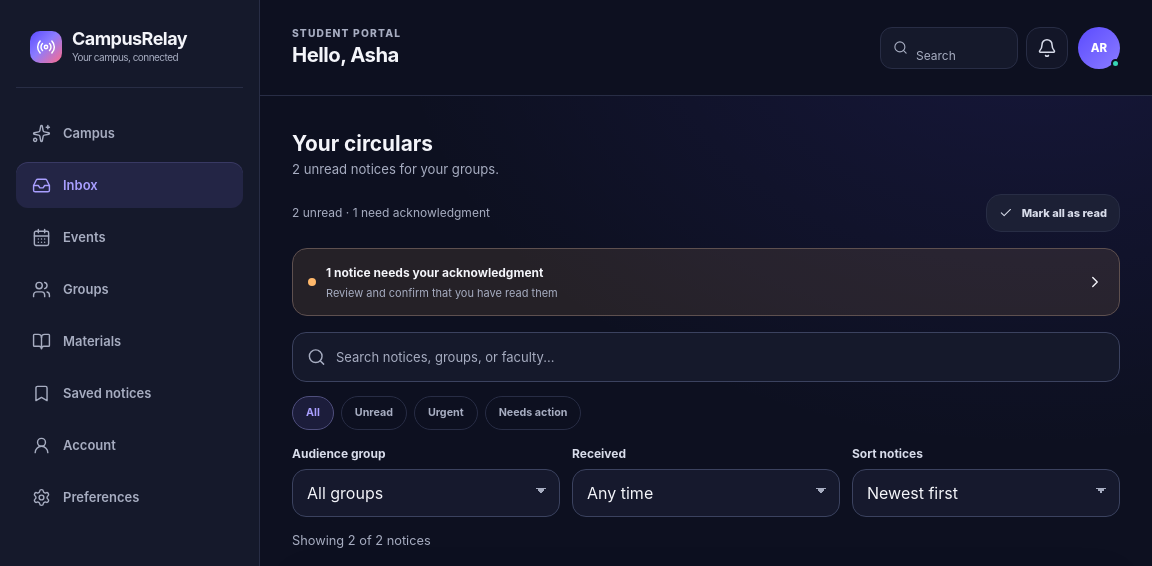
Test: StudentPortal Tier 2 controls › marks all notices read while preserving required acknowledgments and pending feedback
Click the button "Mark all as read". click: [1053, 213]
box: [986,194,1120,232]
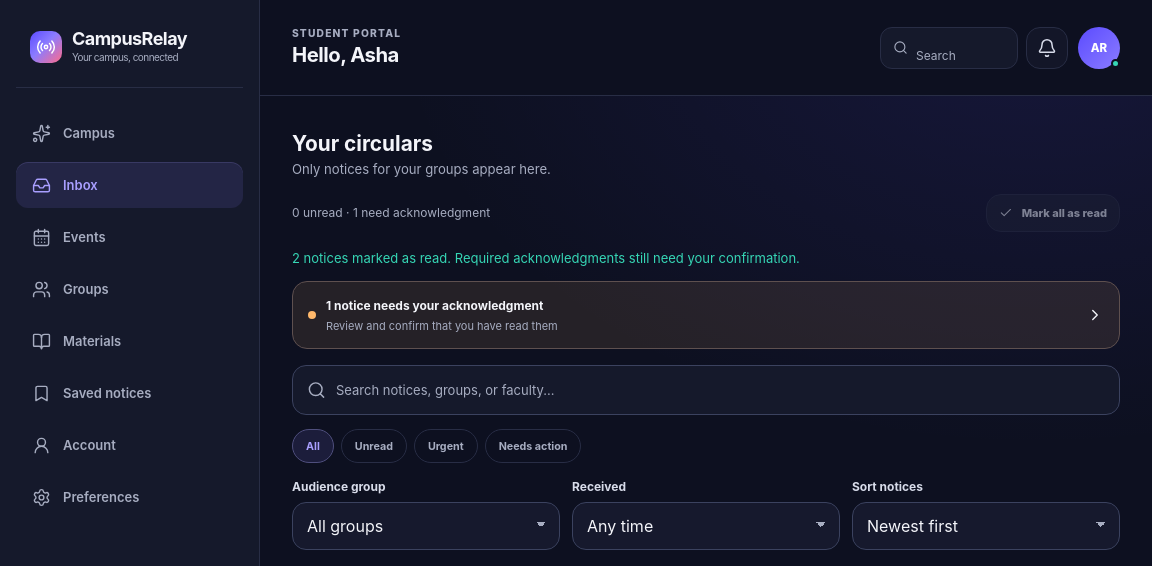
expect the button named "Marking as read..." is disabled: met, box [986,194,1120,232]
expect the text "2 notices marked as read" is shown: met, box [292,250,800,266]
expect the button "Mark all as read" is disabled: met, box [986,194,1120,232]
